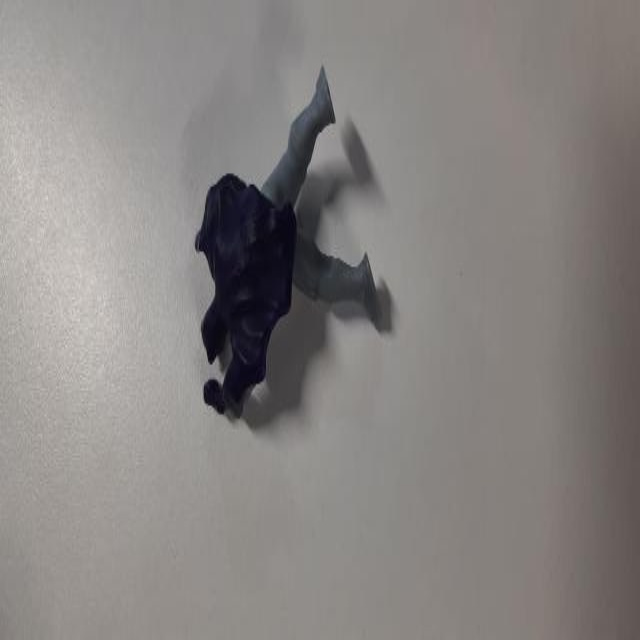Batman: (191, 65, 400, 425)
